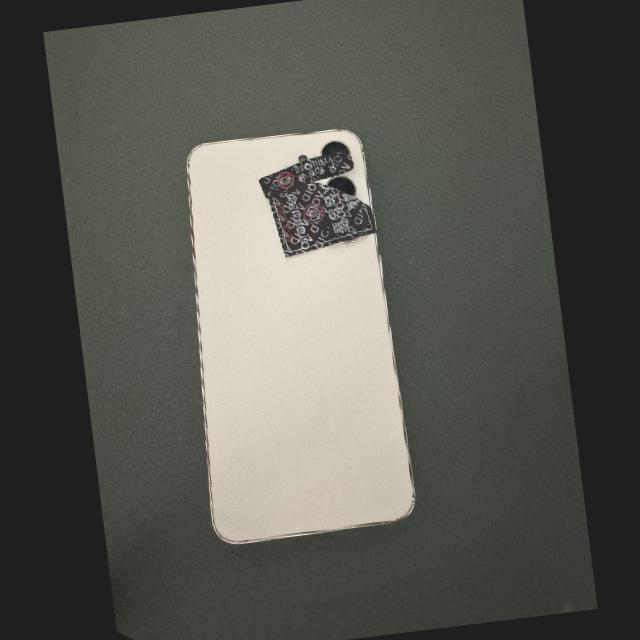lens: (326, 176, 354, 196), (320, 142, 347, 155), (338, 236, 357, 244)
phone: (187, 129, 414, 543)
sticker: (268, 182, 376, 257), (258, 149, 354, 198)
